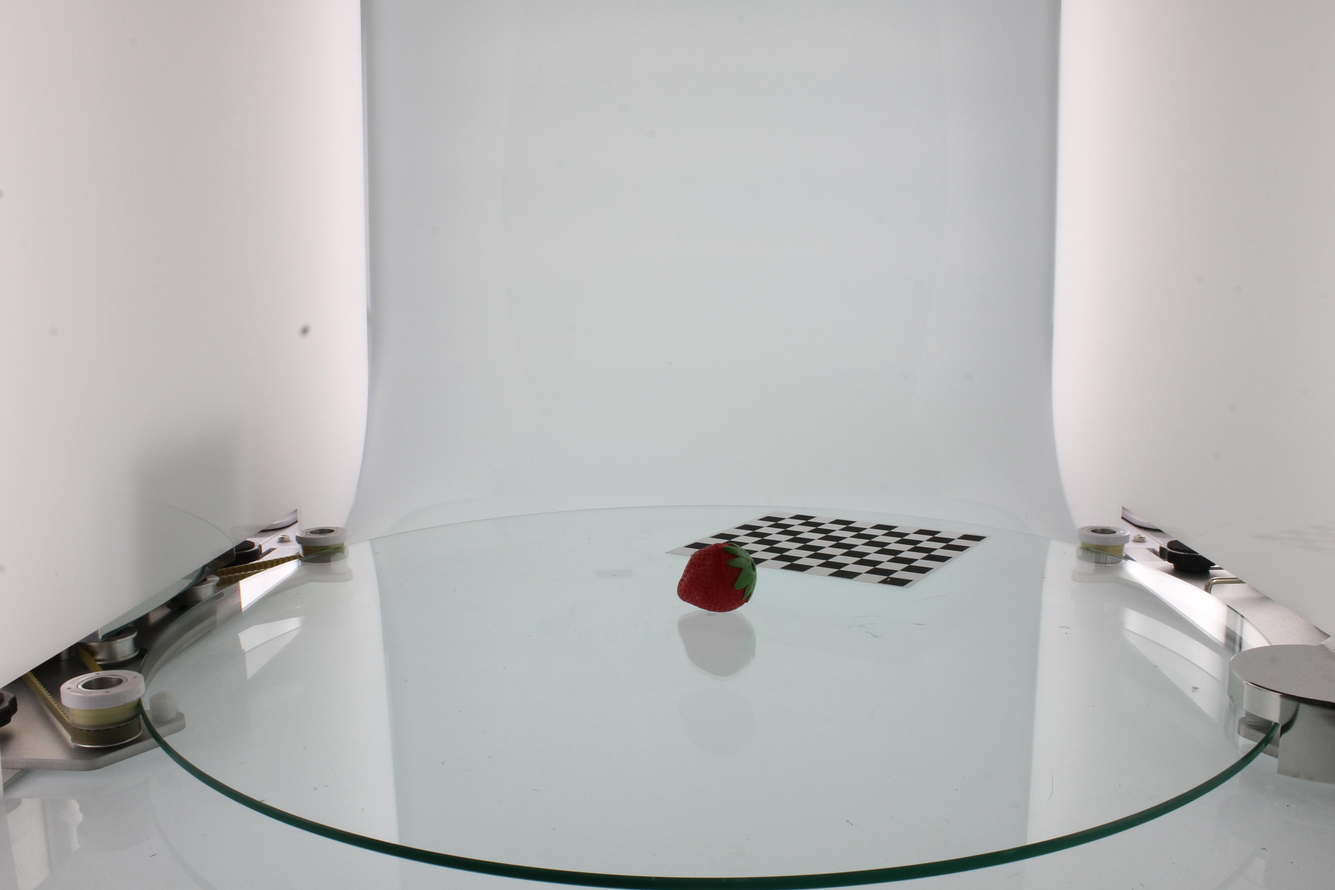strawberry: (674, 541, 757, 612)
